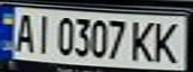0: (54, 14, 75, 56), (90, 16, 109, 60)
3: (72, 15, 93, 57)
7: (106, 17, 130, 61)
A: (9, 10, 39, 54)
I: (30, 11, 54, 55)
K: (148, 18, 187, 64), (127, 17, 160, 63)
